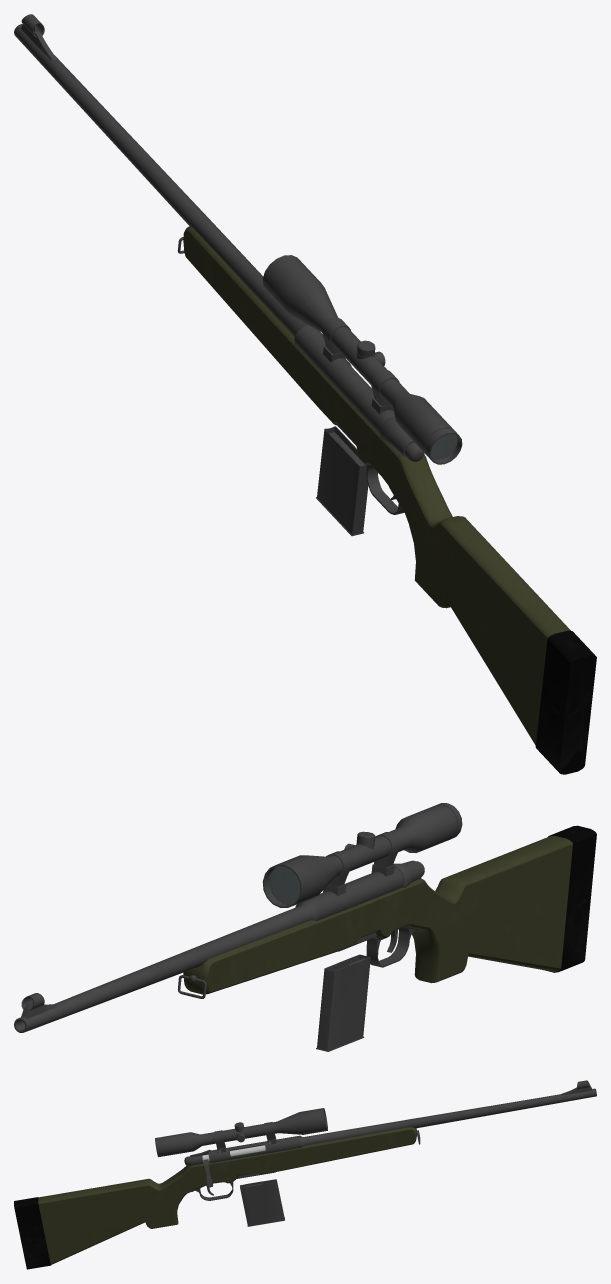
Rendered from snip_hi.glb.
The picture shows the model from 3 angles, top to bottom: view 1: azimuth 30°, elevation 25°; view 2: azimuth 150°, elevation 25°; view 3: azimuth 270°, elevation 25°; orthographic projection. The views are drawn at different scales.
Visible parts, largest first — view 1: Stock, Barrel, Scope, Magazine; view 2: Stock, Barrel, Scope, Magazine, IronSight; view 3: Stock, Barrel, Scope, Magazine, Bolt.
Part boxes in pixels (bbox=[...]): Stock: bbox=[183, 226, 596, 774]; Barrel: bbox=[14, 24, 414, 514]; Scope: bbox=[263, 255, 462, 464]; Magazine: bbox=[316, 426, 368, 536]; Stock: bbox=[183, 825, 596, 994]; Barrel: bbox=[14, 860, 422, 1032]; Scope: bbox=[262, 803, 462, 907]; Magazine: bbox=[316, 954, 370, 1051]; IronSight: bbox=[21, 993, 57, 1018]; Stock: bbox=[14, 1127, 417, 1269]; Barrel: bbox=[190, 1088, 596, 1200]; Scope: bbox=[155, 1108, 327, 1157]; Magazine: bbox=[240, 1179, 284, 1226]; Bolt: bbox=[184, 1145, 265, 1187].
Bounding box in the file's own units: 0.0568 × 0.3966 × 1.12.
Materials: 1 (1 with a texture image).
